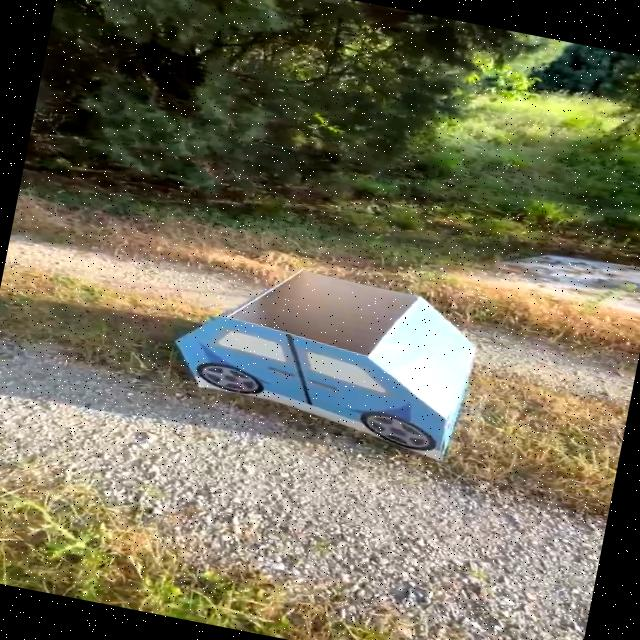blue_car: (125, 234, 536, 483)
